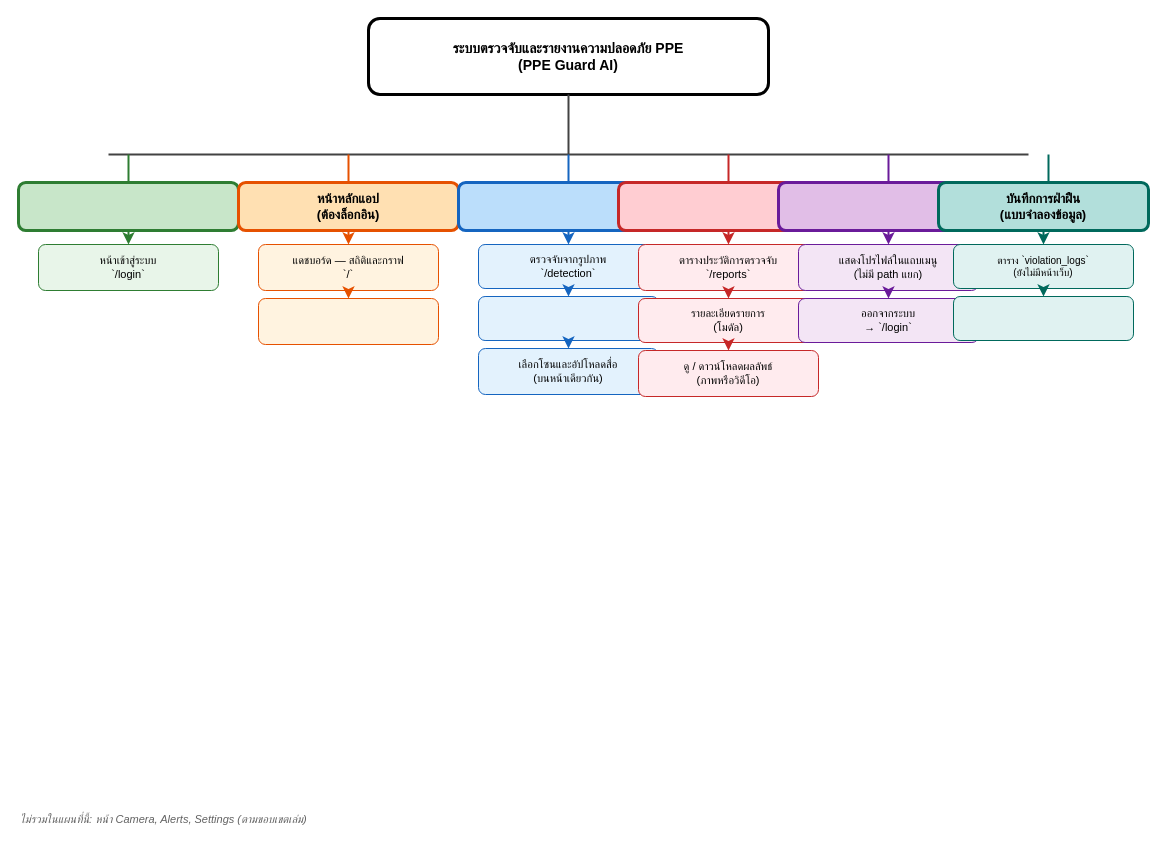
The diagram is 1167 pixels wide and 864 high, and some of its shapes have lost their labels. Here are the shapes that lost their labels. From the top down, the centre of each, then its label:
point (128, 206): หน้าแรก
point (568, 206): การตรวจจับ PPE
point (728, 206): รายงานและประวัติ
point (888, 206): ข้อมูลบัญชีผู้ใช้
point (348, 321): ส่งออกรายงาน PDF (จากหน้าแดชบอร์ด)
point (568, 318): ตรวจจับจากวิดีโอ `/detection`
point (1043, 318): รายละเอียดฝ่าฝืนจริงใน `detections` หน้า `/reports`
